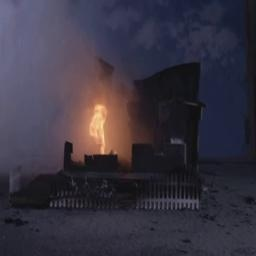fire: (79, 92, 120, 155)
smoke: (1, 1, 129, 100)
